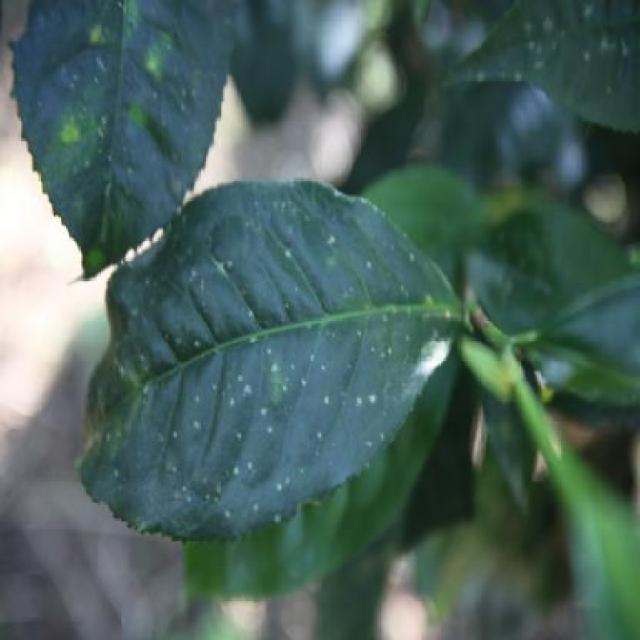White spot of tea: (97, 188, 445, 524)
